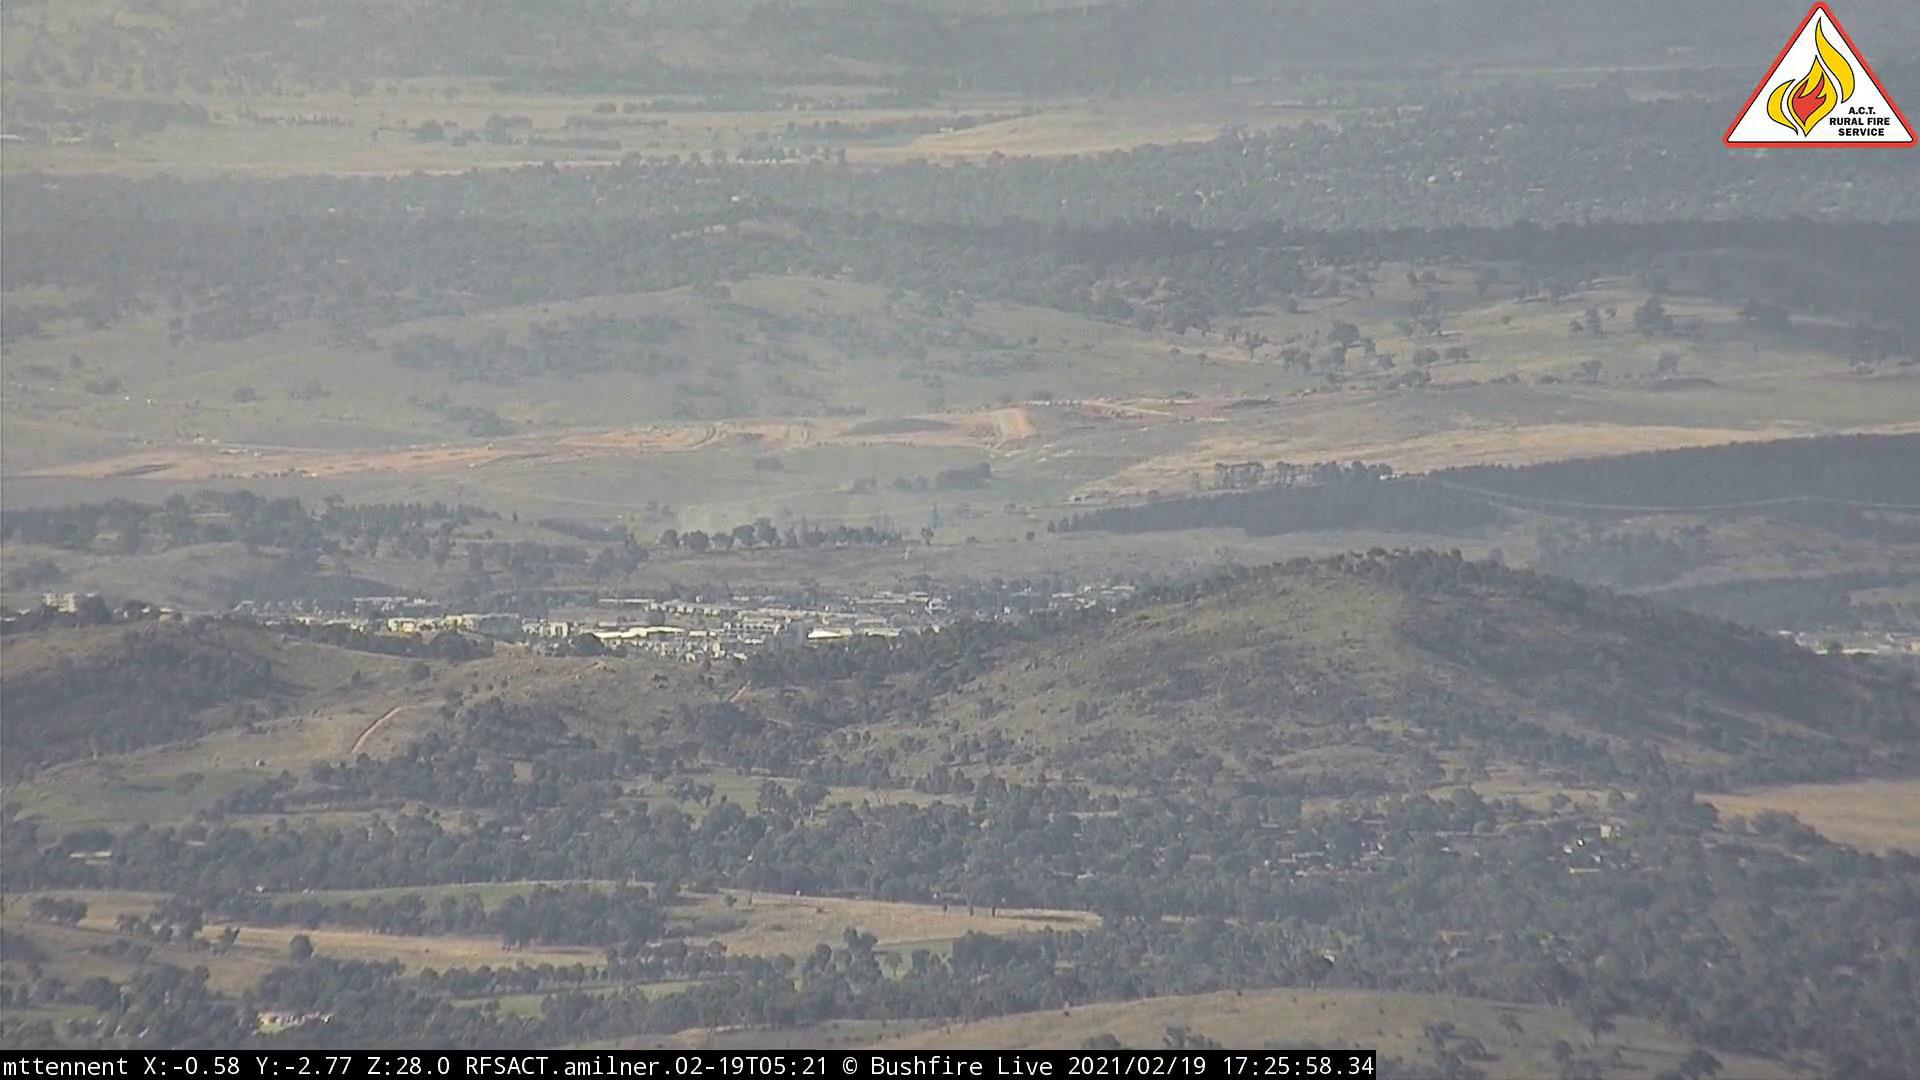Smoke: (663, 489, 810, 545)
